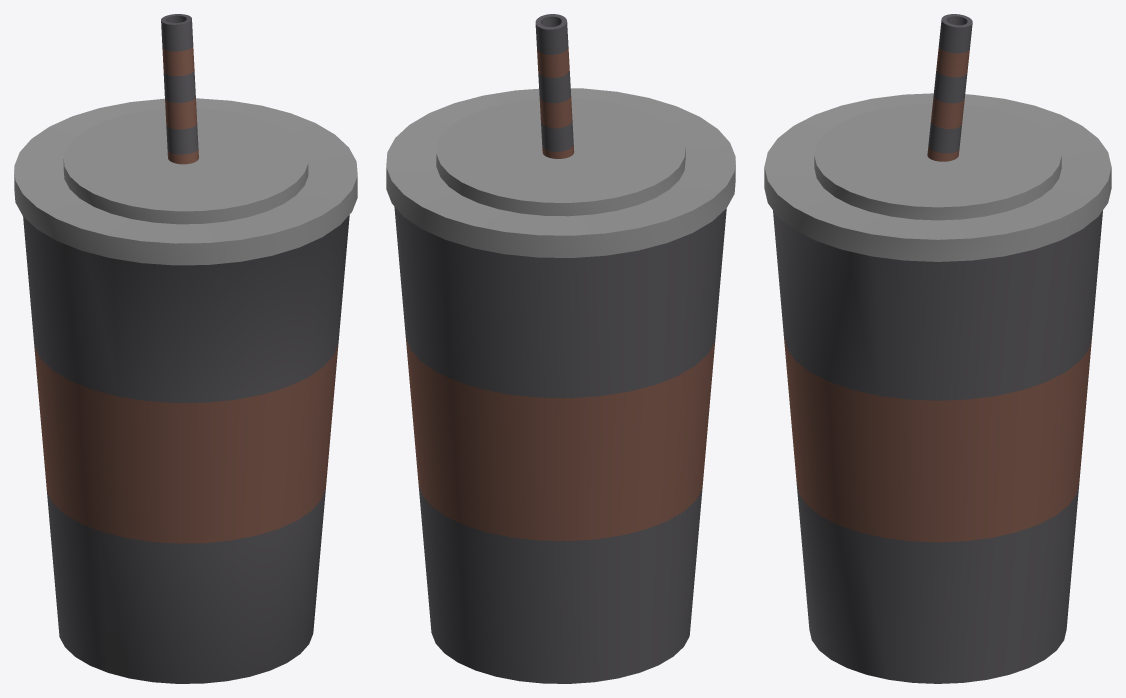
File: Comida_VR14.fbx
The picture shows the model from 3 angles, left to right: view 1: azimuth 30°, elevation 25°; view 2: azimuth 150°, elevation 25°; view 3: azimuth 270°, elevation 25°; orthographic projection.
Visible parts, largest first — view 1: Candy Fresh; view 2: Candy Fresh; view 3: Candy Fresh.
Boxes of the visible parts, x1,y1,x2,y2 form: Candy Fresh: (14, 14, 357, 683); Candy Fresh: (386, 14, 735, 683); Candy Fresh: (764, 14, 1111, 683).
Bounding box in the file's own units: 137 × 265 × 137.
